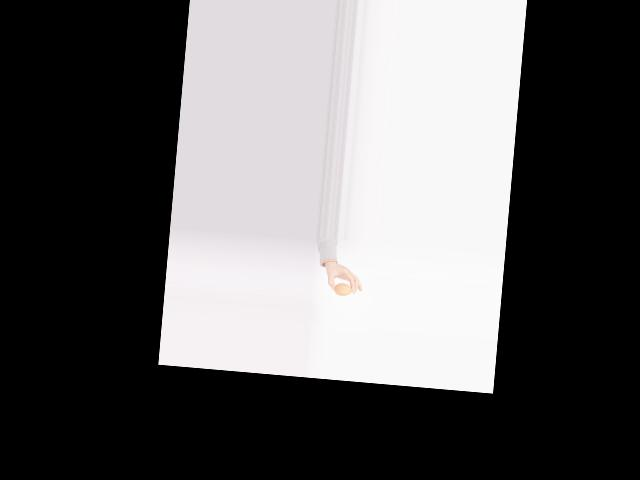egg: (333, 283, 352, 297)
